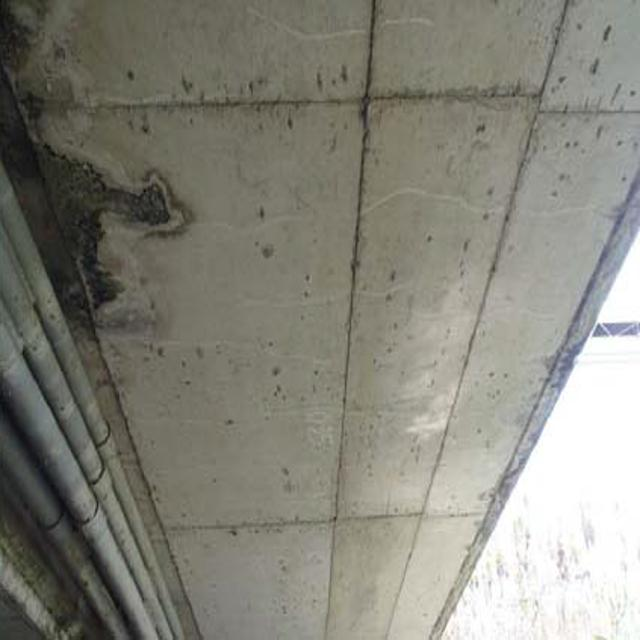leakage: (20, 64, 207, 343)
